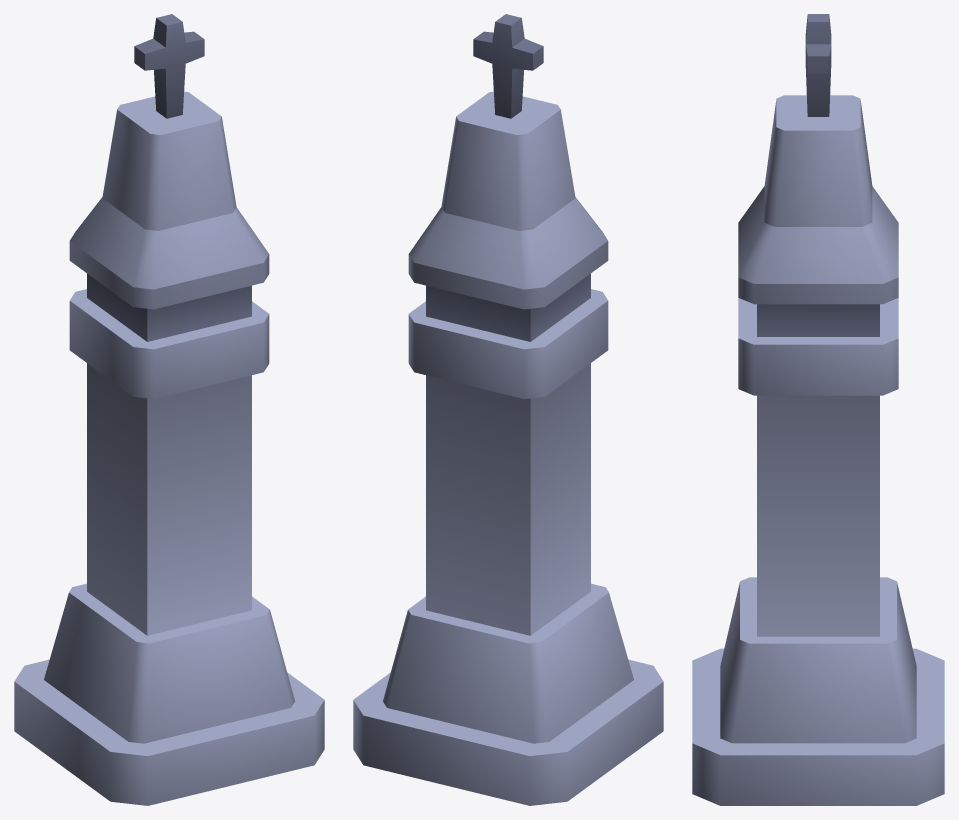
The model's file is cross-column.002_lev1.glb.
The picture shows the model from 3 angles, left to right: view 1: azimuth 30°, elevation 25°; view 2: azimuth 150°, elevation 25°; view 3: azimuth 270°, elevation 25°; orthographic projection.
Visible parts, largest first — view 1: cross-column.002_lev1; view 2: cross-column.002_lev1; view 3: cross-column.002_lev1.
Part boxes in pixels (x1,y1,x2,y2): cross-column.002_lev1: (14, 14, 324, 805); cross-column.002_lev1: (353, 14, 663, 805); cross-column.002_lev1: (692, 14, 944, 805).
Bounding box in the file's own units: 3.15 × 10.13 × 3.15.
1 material, 1 textured.
